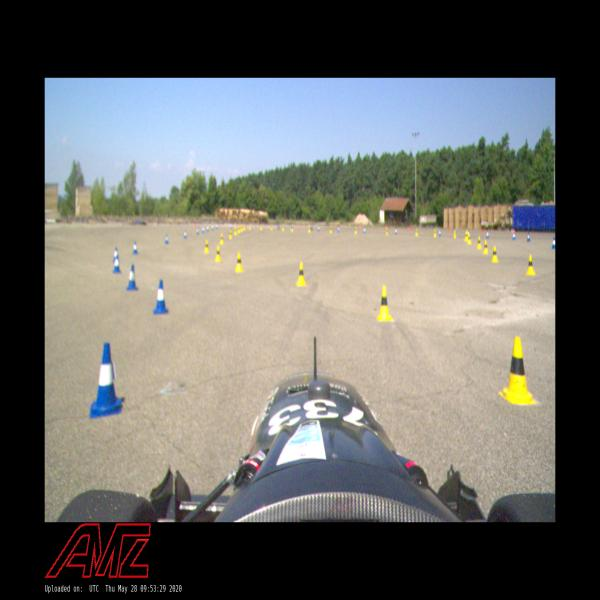blue_cone: (88, 342, 122, 416), (153, 279, 168, 315), (126, 263, 138, 292), (113, 254, 121, 274), (113, 247, 118, 262), (133, 240, 138, 254), (165, 234, 169, 244), (552, 236, 555, 249), (527, 231, 530, 242), (512, 232, 516, 240), (184, 229, 187, 239), (196, 228, 199, 235), (202, 226, 205, 233), (439, 229, 441, 236)
yellow_cone: (500, 335, 536, 406), (376, 285, 393, 324), (296, 262, 307, 287), (526, 254, 536, 276), (235, 251, 243, 272), (215, 245, 221, 263), (492, 244, 498, 262), (483, 239, 488, 254), (204, 240, 209, 254), (476, 235, 481, 249), (219, 233, 224, 244), (467, 233, 471, 245), (228, 229, 232, 239), (415, 228, 418, 236), (234, 227, 237, 235), (454, 230, 456, 238), (434, 229, 436, 237)
